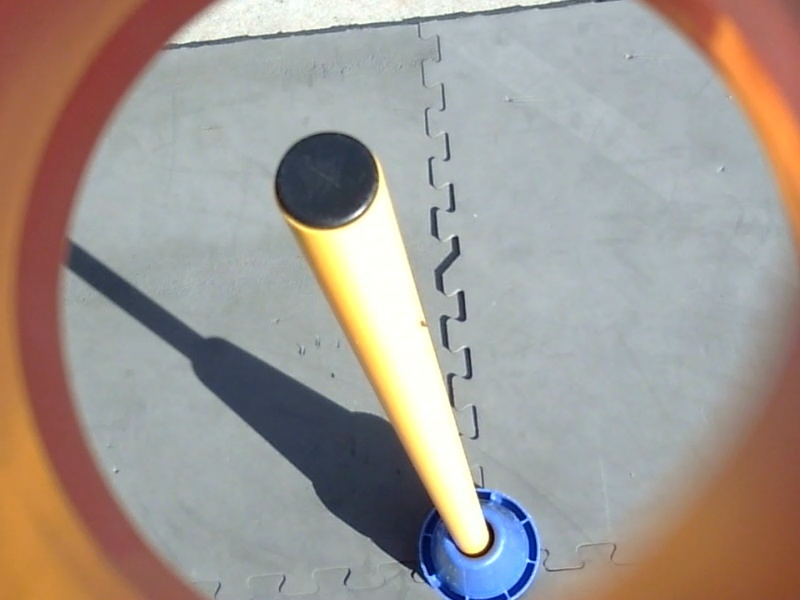tip: (269, 127, 387, 237)
